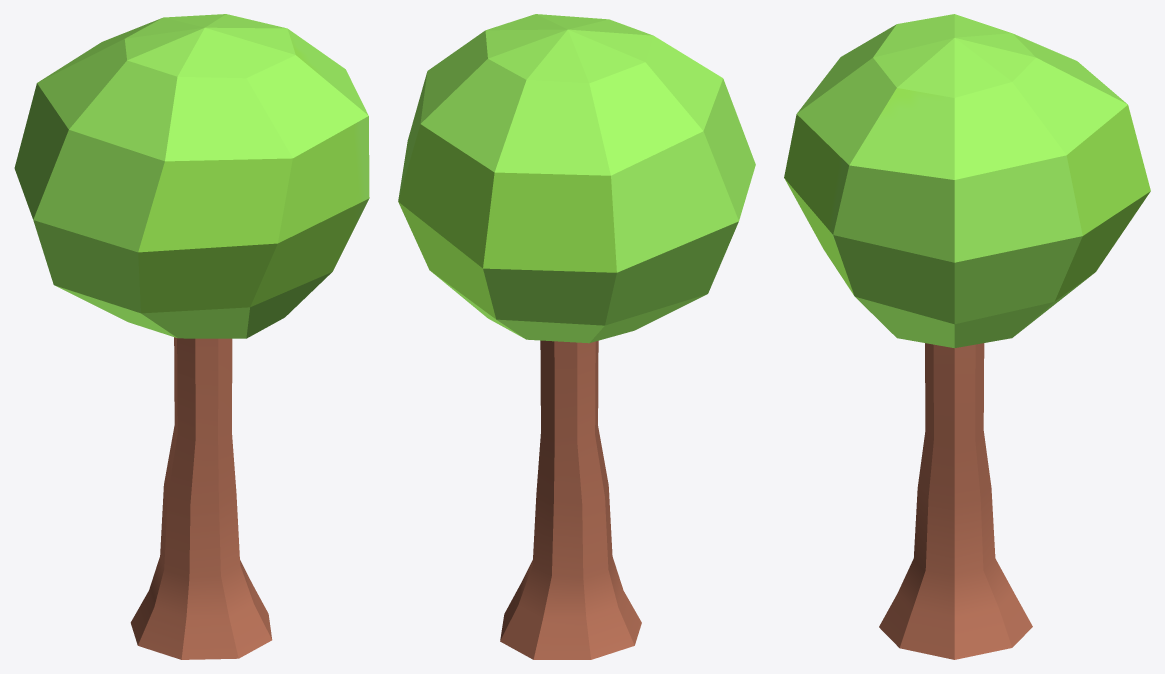
File: Tree_V1.fbx
3 views of the same model, side by side, from view 1: azimuth 30°, elevation 25°; view 2: azimuth 150°, elevation 25°; view 3: azimuth 270°, elevation 25° (orthographic).
Visible parts, largest first — view 1: pSphere2; view 2: pSphere2; view 3: pSphere2.
Boxes of the visible parts, bbox=[...] form: pSphere2: bbox=[14, 14, 369, 659]; pSphere2: bbox=[398, 14, 755, 659]; pSphere2: bbox=[784, 14, 1150, 659].
Size of the model in its own units: 2.31 by 4 by 2.25.
